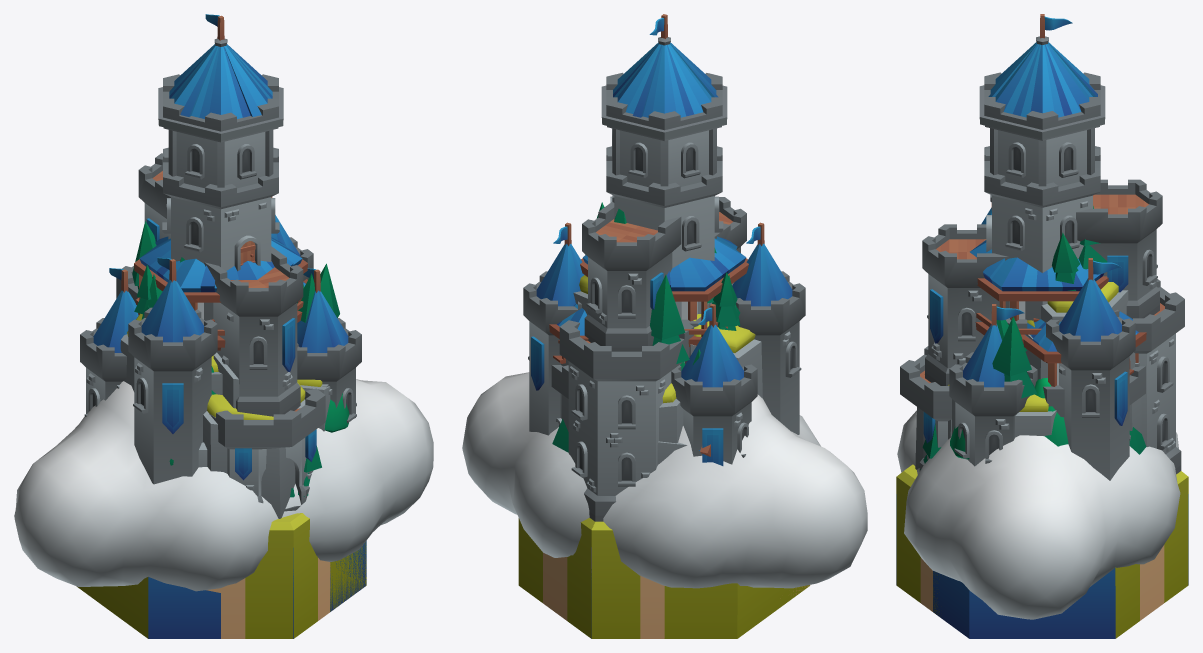
Rendered from hex.glb.
3 renders of one model, left to right at view 1: azimuth 30°, elevation 25°; view 2: azimuth 150°, elevation 25°; view 3: azimuth 270°, elevation 25°, orthographic.
Parts seen in each view (by area): view 1: building_castle_blue, cloud_big, hex_road_G, mountain_C_grass_trees, building_tower_B_top_blue, hex_coast_D, hex_road_D, hex_coast_A, mountain_A_grass_trees, hex_grass, hex_water, hex_road_J (+1 smaller); view 2: building_castle_blue, cloud_big, hex_road_C, hex_coast_E, hex_road_B, mountain_C_grass_trees, building_tower_B_top_blue, hex_coast_A, mountain_A_grass_trees, hex_road_H, hex_road_E, building_archeryrange_blue (+1 smaller); view 3: building_castle_blue, cloud_big, hex_coast_D, mountain_B_grass_trees, building_tower_B_top_blue, hex_road_B, hex_road_E, hex_road_D, building_archeryrange_blue, hex_water, mountain_A_grass_trees, mountain_C_grass_trees (+3 smaller).
Part boxes in pixels (x1=…): building_castle_blue: x1=80, y1=14, x2=361, y2=511; cloud_big: x1=14, y1=379, x2=433, y2=591; hex_road_G: x1=206, y1=521, x2=293, y2=638; mountain_C_grass_trees: x1=120, y1=257, x2=305, y2=518; building_tower_B_top_blue: x1=134, y1=236, x2=307, y2=350; hex_coast_D: x1=148, y1=571, x2=365, y2=638; hex_road_D: x1=290, y1=513, x2=330, y2=638; hex_coast_A: x1=76, y1=548, x2=293, y2=638; mountain_A_grass_trees: x1=132, y1=221, x2=339, y2=431; hex_grass: x1=330, y1=542, x2=366, y2=611; hex_water: x1=330, y1=541, x2=366, y2=611; hex_road_J: x1=278, y1=513, x2=317, y2=636; building_castle_blue: x1=523, y1=14, x2=805, y2=521; cloud_big: x1=462, y1=372, x2=867, y2=588; hex_road_C: x1=591, y1=530, x2=664, y2=638; hex_coast_E: x1=664, y1=583, x2=736, y2=638; hex_road_B: x1=543, y1=518, x2=594, y2=638; mountain_C_grass_trees: x1=562, y1=248, x2=762, y2=443; building_tower_B_top_blue: x1=580, y1=236, x2=748, y2=346; hex_coast_A: x1=591, y1=522, x2=809, y2=638; mountain_A_grass_trees: x1=585, y1=254, x2=740, y2=465; hex_road_H: x1=591, y1=530, x2=640, y2=638; hex_road_E: x1=518, y1=518, x2=567, y2=620; building_archeryrange_blue: x1=549, y1=303, x2=710, y2=456; building_castle_blue: x1=900, y1=14, x2=1184, y2=480; cloud_big: x1=897, y1=410, x2=1180, y2=619; hex_coast_D: x1=936, y1=494, x2=1188, y2=638; mountain_B_grass_trees: x1=996, y1=206, x2=1135, y2=437; building_tower_B_top_blue: x1=970, y1=240, x2=1108, y2=348; hex_road_B: x1=905, y1=466, x2=1188, y2=620; hex_road_E: x1=908, y1=471, x2=1164, y2=638; hex_road_D: x1=896, y1=469, x2=932, y2=611; building_archeryrange_blue: x1=1021, y1=311, x2=1146, y2=440; hex_water: x1=933, y1=571, x2=969, y2=638; mountain_A_grass_trees: x1=952, y1=318, x2=1036, y2=434; mountain_C_grass_trees: x1=915, y1=317, x2=1141, y2=469.
Bounding box in the file's own units: 3.61 × 4.98 × 2.31.
Materials: 1 (1 with a texture image).
